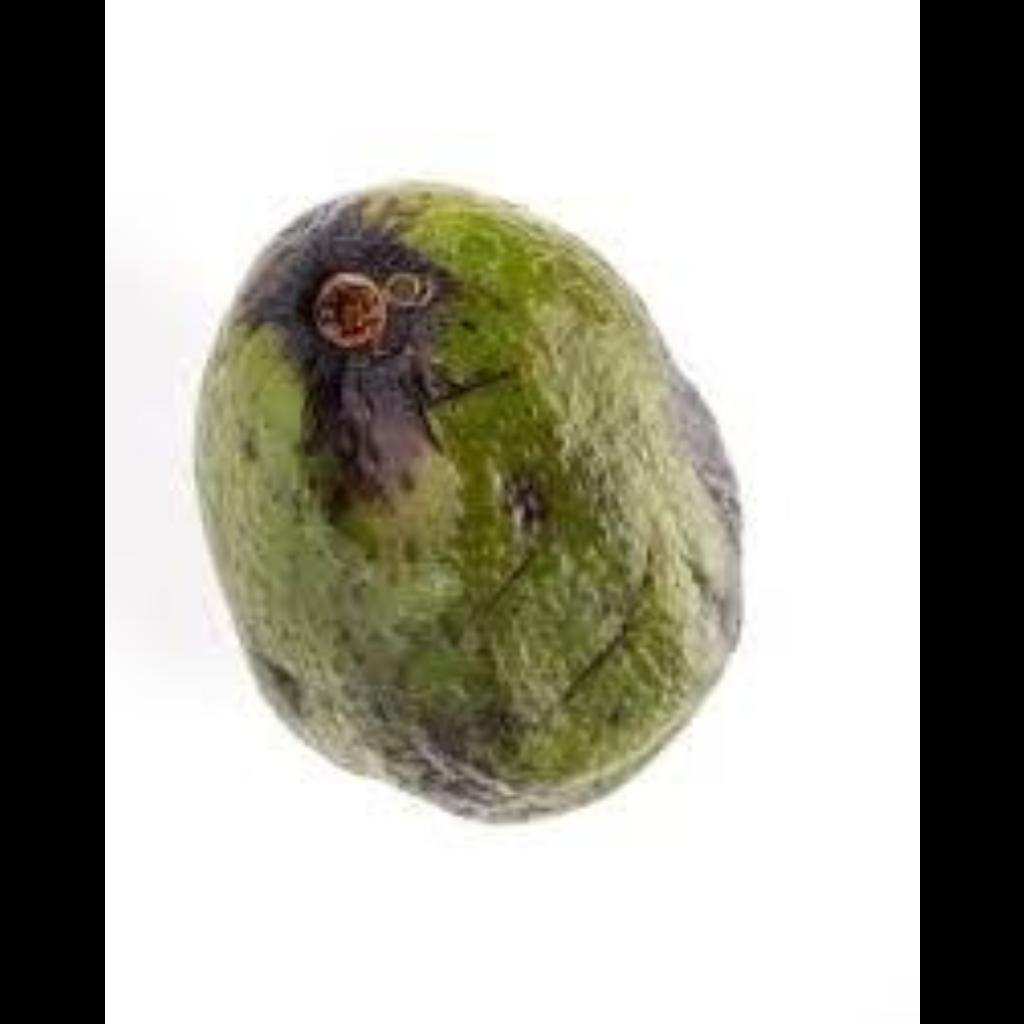Anthracnose: (225, 196, 759, 816)
